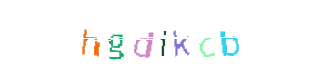B: (188, 0, 268, 80)
C: (142, 0, 222, 80)
D: (118, 0, 198, 80)
G: (76, 0, 156, 80)
H: (50, 0, 130, 80)
I: (122, 0, 202, 80)
K: (123, 0, 203, 80)
